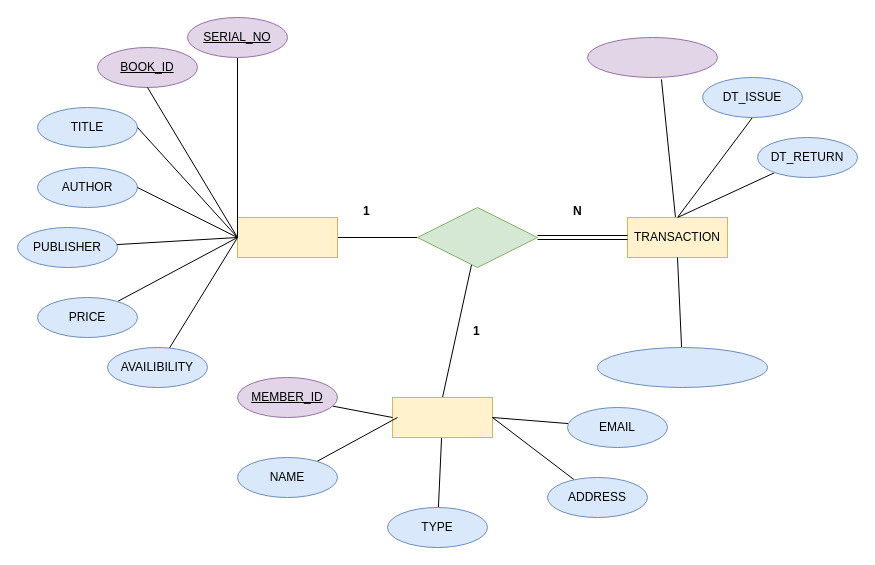
The diagram is 875 pixels wide and 565 high, and some of its shapes have lost their labels. Here are the shapes that lost their labels. From the top down, the centre of each, then its label:
At [652,57]: "TRANSACTION_ID".
At [287,237]: "BOOK".
At [477,237]: "ISSUED".
At [682,367]: "TO_BE_RETURNED_BY".
At [442,417]: "MEMBER".
